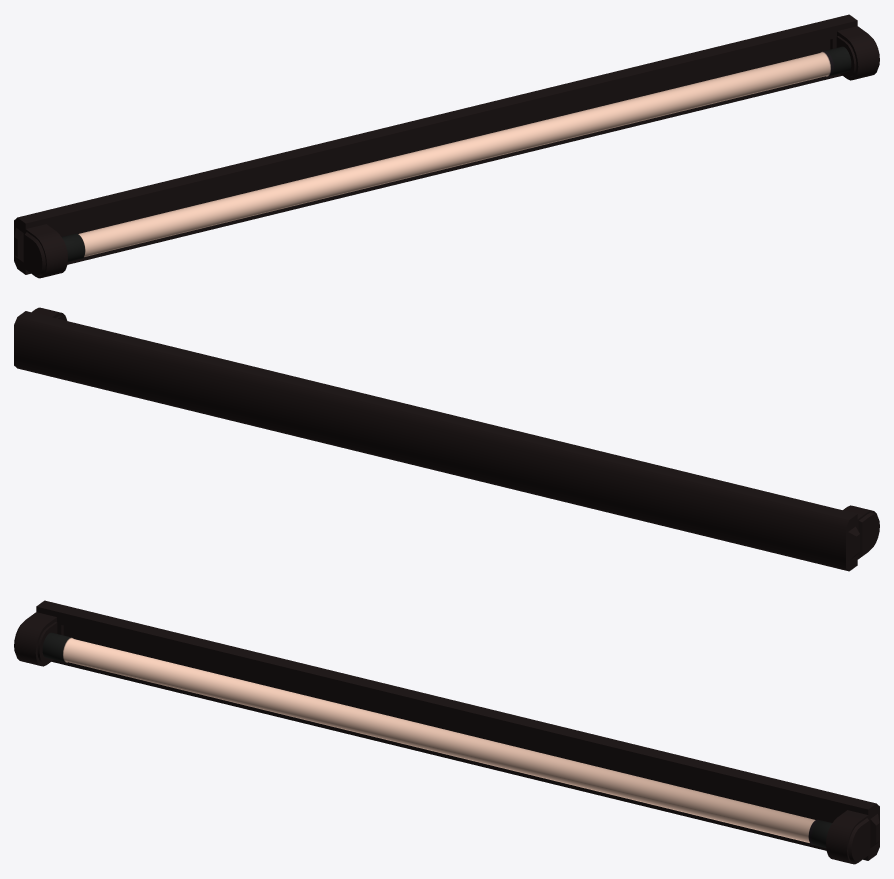
File: Light_FlourescentSingle01.dae
3 views of the same model, one above another, from view 1: azimuth 30°, elevation 25°; view 2: azimuth 150°, elevation 25°; view 3: azimuth 330°, elevation 25° (orthographic).
Parts seen in each view (by area): view 1: polySurface28; view 2: polySurface28; view 3: polySurface28.
Part boxes in pixels (x1,y1,x2,y2): polySurface28: (14,14,879,278); polySurface28: (14,307,879,571); polySurface28: (14,600,879,864).
Bounding box in the file's own units: 2.13 × 0.1246 × 0.1446.
Materials: 1 (1 with a texture image).
